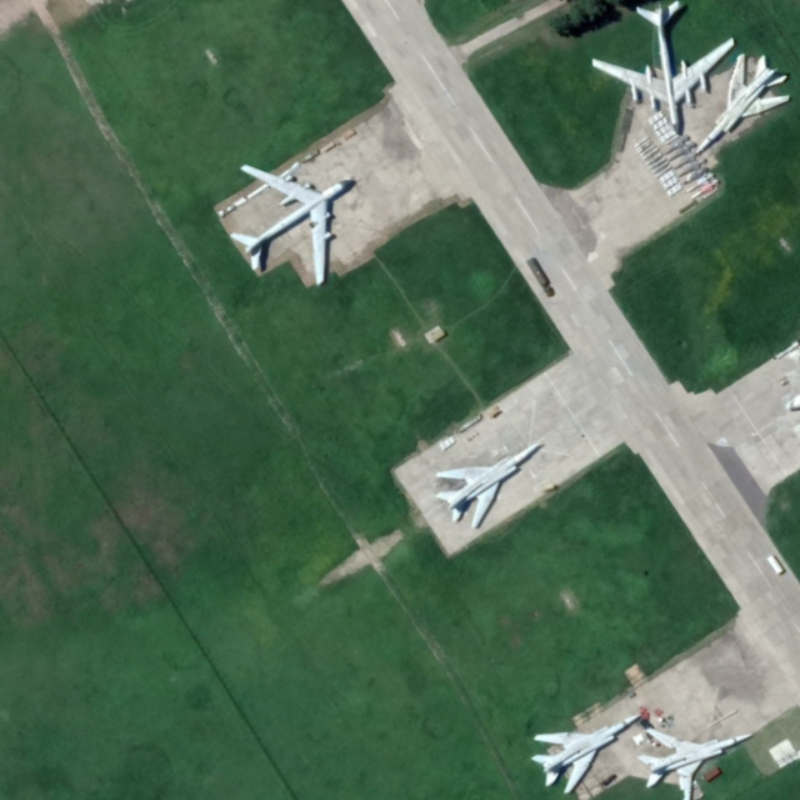A12: (693, 51, 792, 155), (528, 711, 644, 797), (434, 441, 542, 531), (636, 725, 754, 800)
A17: (589, 1, 737, 137), (227, 162, 353, 287)
